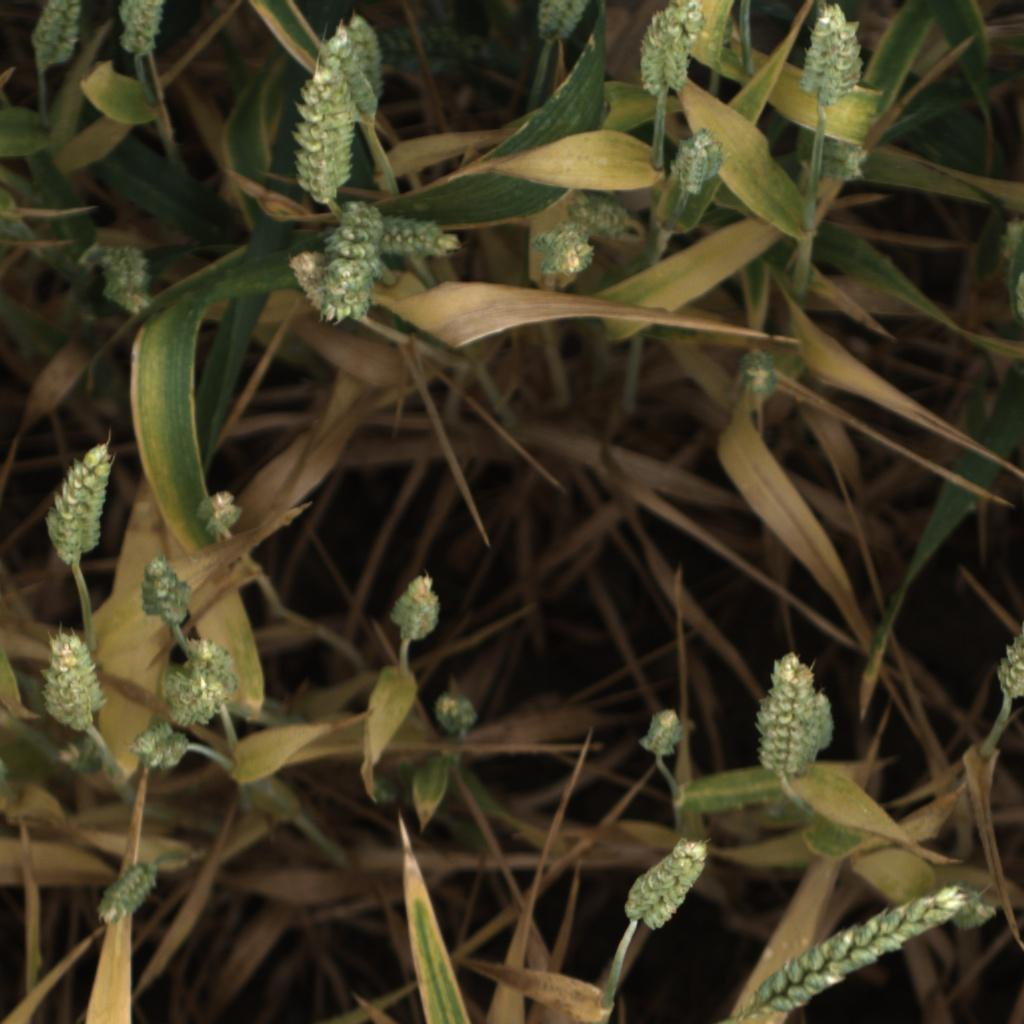0-0: (727, 883, 964, 1024), (288, 59, 359, 208), (750, 645, 820, 779), (43, 438, 115, 568), (31, 627, 114, 739), (622, 836, 710, 933), (372, 22, 504, 79), (797, 2, 865, 108), (636, 1, 708, 99), (316, 19, 380, 122), (132, 553, 196, 638), (725, 332, 790, 413), (375, 211, 462, 269), (88, 855, 156, 929), (322, 197, 396, 265), (275, 245, 338, 324), (669, 129, 731, 201), (95, 246, 156, 316), (387, 570, 445, 643), (559, 188, 633, 244), (527, 221, 597, 280), (150, 671, 223, 727), (322, 257, 382, 325), (29, 1, 86, 70), (346, 12, 388, 103), (952, 877, 1006, 946), (116, 0, 169, 62), (131, 722, 193, 774), (47, 734, 107, 787), (192, 486, 247, 542), (989, 616, 1024, 701), (636, 702, 683, 765), (534, 0, 590, 44), (178, 634, 234, 676), (815, 139, 870, 181), (431, 688, 479, 736), (805, 690, 838, 759), (190, 668, 242, 704), (1001, 215, 1024, 260), (1012, 269, 1024, 320)
